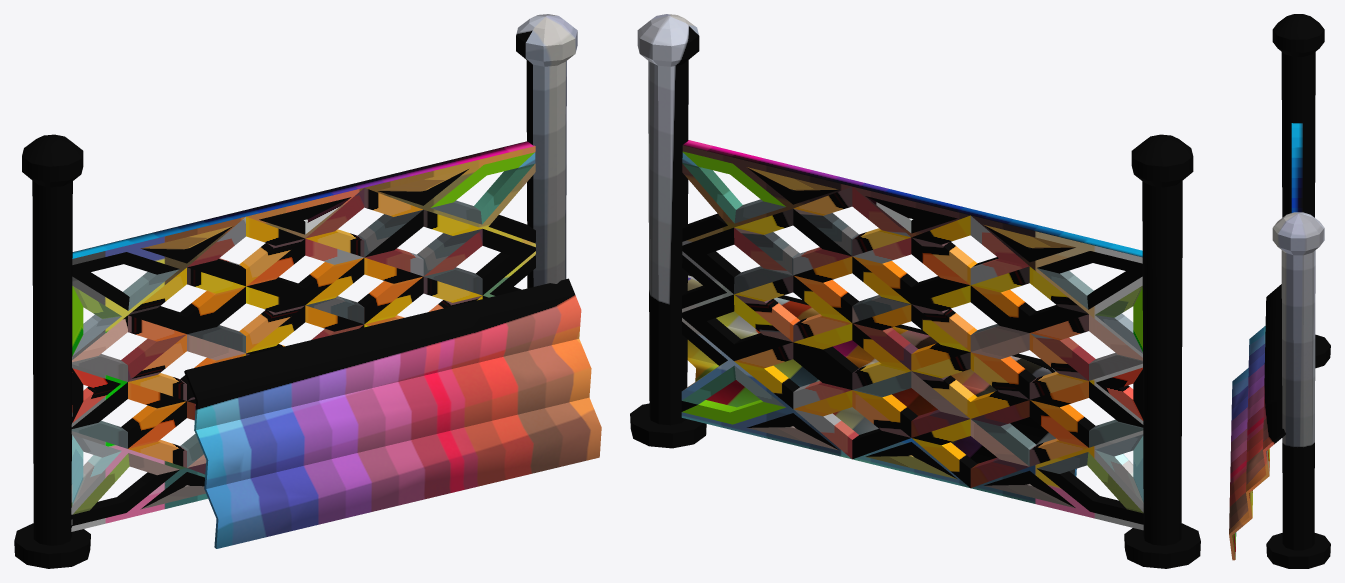
The model's file is Fence_2.FBX.
3 views of the same model, side by side, from view 1: azimuth 30°, elevation 25°; view 2: azimuth 150°, elevation 25°; view 3: azimuth 270°, elevation 25° (orthographic). The views are drawn at different scales.
Visible parts, largest first — view 1: Fence_2; view 2: Fence_2; view 3: Fence_2.
Part boxes in pixels (x1,y1,x2,y2): Fence_2: (14,14,601,568); Fence_2: (630,14,1200,568); Fence_2: (1229,14,1330,568).
Bounding box in the file's own units: 167 × 119 × 31.97.
Materials: 1 (1 with a texture image).
